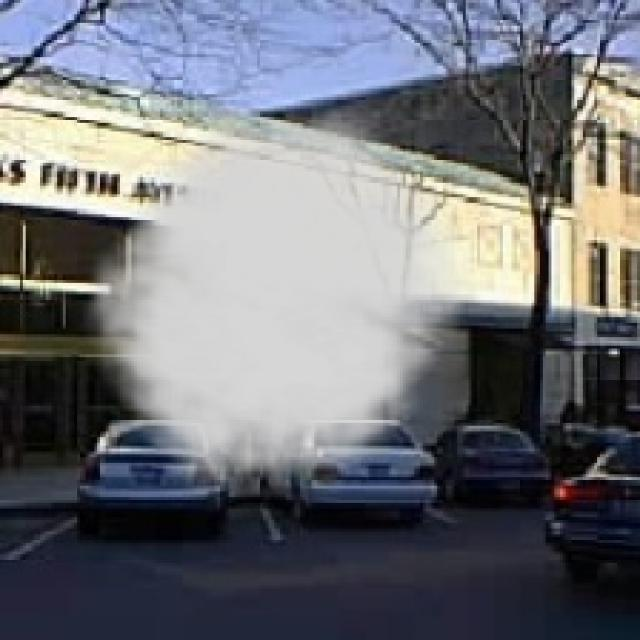Smoke: (71, 106, 483, 503)
